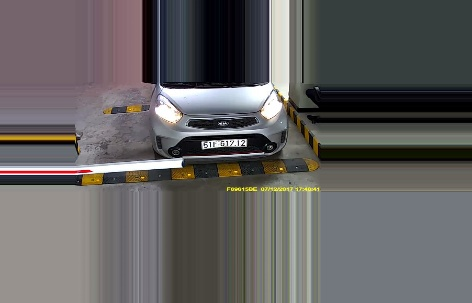plate: (201, 136, 248, 148)
